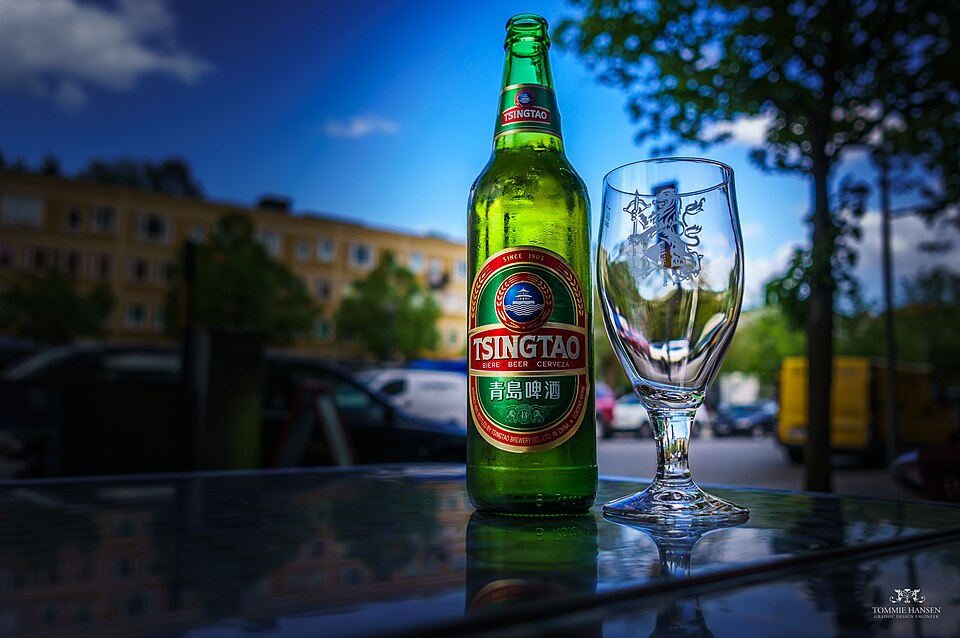beer-bottle: (456, 12, 602, 522)
